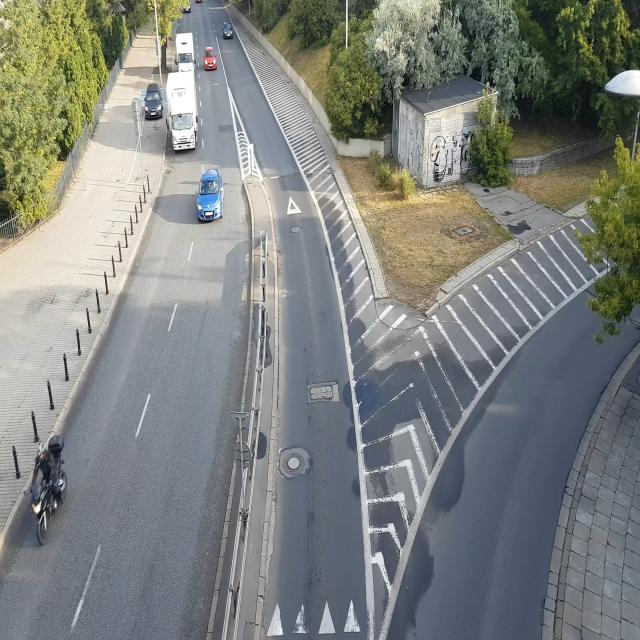car: (197, 168, 225, 222), (144, 85, 165, 119), (205, 44, 219, 70), (223, 23, 234, 40)
motorcycle: (19, 434, 73, 539)
truck: (165, 74, 199, 154), (176, 30, 197, 71)
